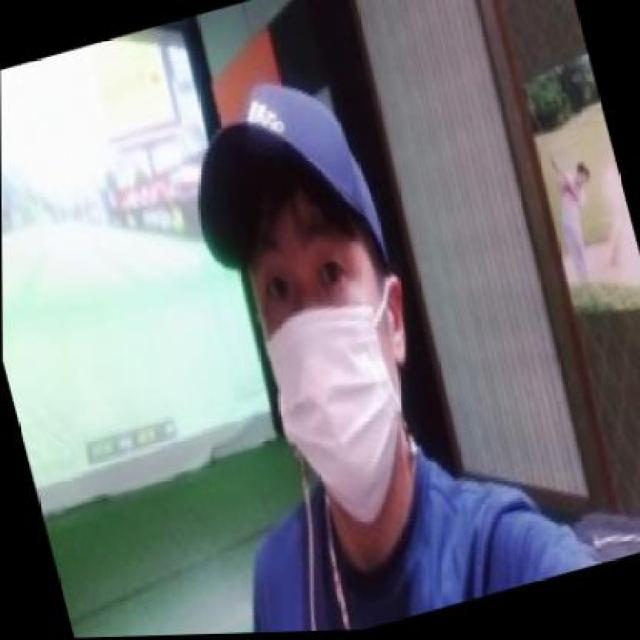hat: (167, 53, 396, 322)
